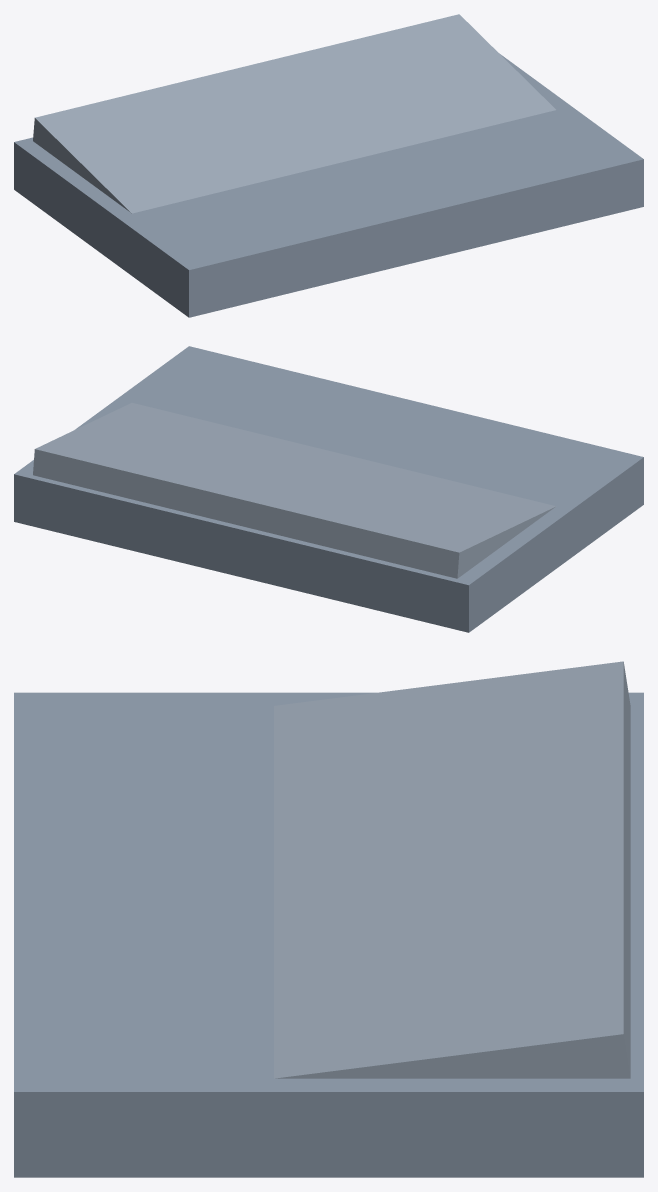
File: activator.pedal.glb
3 renders of one model, top to bottom at view 1: azimuth 30°, elevation 25°; view 2: azimuth 150°, elevation 25°; view 3: azimuth 270°, elevation 25°, orthographic. The views are drawn at different scales.
Parts seen in each view (by area): view 1: activator.pedal, press; view 2: activator.pedal, press; view 3: activator.pedal, press.
Boxes of the visible parts, x1=… form: activator.pedal: x1=14, y1=53, x2=643, y2=317; press: x1=33, y1=14, x2=555, y2=213; activator.pedal: x1=14, y1=346, x2=643, y2=632; press: x1=33, y1=403, x2=555, y2=578; activator.pedal: x1=14, y1=692, x2=643, y2=1177; press: x1=274, y1=661, x2=630, y2=1078.
Bounding box in the file's own units: 0.3 × 0.0462 × 0.2.
